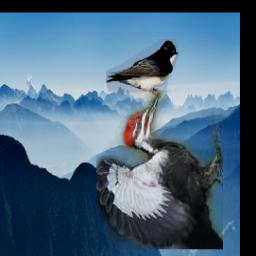Swallow: (105, 39, 178, 98)
Woodpecker: (96, 91, 223, 250)
